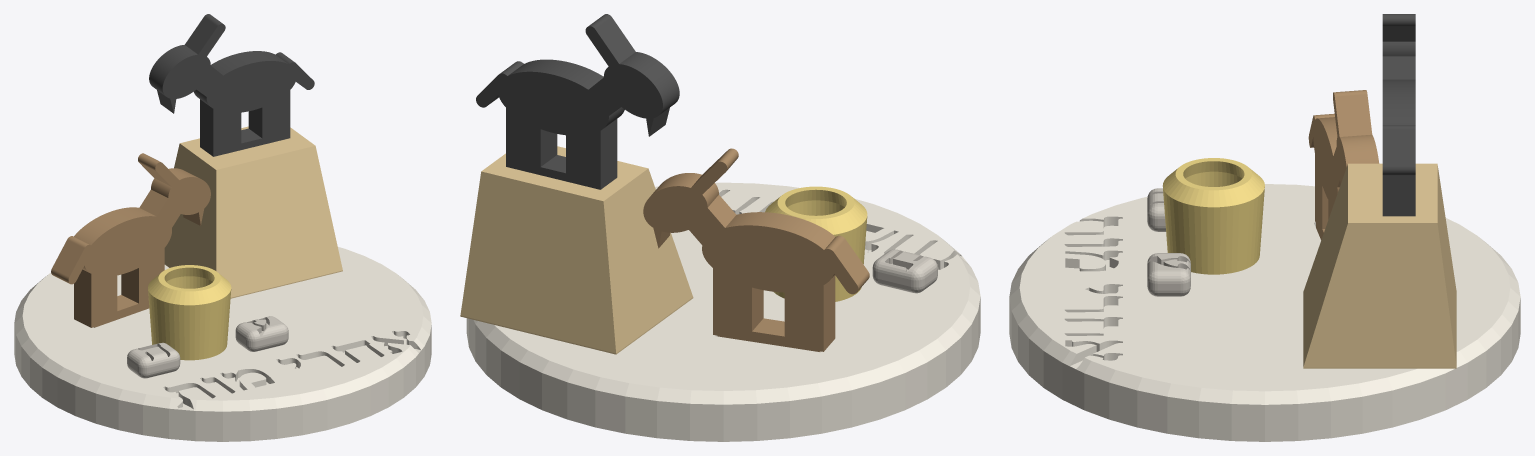
The model's file is acharei-mot.glb.
3 views of the same model, side by side, from view 1: azimuth 30°, elevation 25°; view 2: azimuth 150°, elevation 25°; view 3: azimuth 270°, elevation 25° (orthographic). The views are drawn at different scales.
Visible parts, largest first — view 1: stage, cliff, goat-for-god, goat-azazel, urn, lot-1, lot-2; view 2: stage, cliff, goat-for-god, goat-azazel, urn, lot-1; view 3: stage, cliff, urn, goat-azazel, goat-for-god, lot-2, lot-1.
Part boxes in pixels (<box>): stage: <box>14,247,431,441</box>; cliff: <box>164,126,342,298</box>; goat-for-god: <box>51,153,210,327</box>; goat-azazel: <box>149,14,314,156</box>; urn: <box>148,265,231,360</box>; lot-1: <box>127,342,180,378</box>; lot-2: <box>235,316,288,351</box>; stage: <box>466,182,980,441</box>; cliff: <box>460,146,693,354</box>; goat-for-god: <box>643,148,869,351</box>; goat-azazel: <box>476,14,679,189</box>; urn: <box>765,186,867,301</box>; lot-1: <box>872,249,937,293</box>; stage: <box>1009,184,1520,441</box>; cliff: <box>1303,163,1456,368</box>; urn: <box>1162,158,1264,274</box>; goat-azazel: <box>1382,14,1415,216</box>; goat-for-god: <box>1308,90,1379,239</box>; lot-2: <box>1147,253,1190,296</box>; lot-1: <box>1147,188,1165,231</box>.
Size of the model in its own units: 40 by 29.95 by 40.
